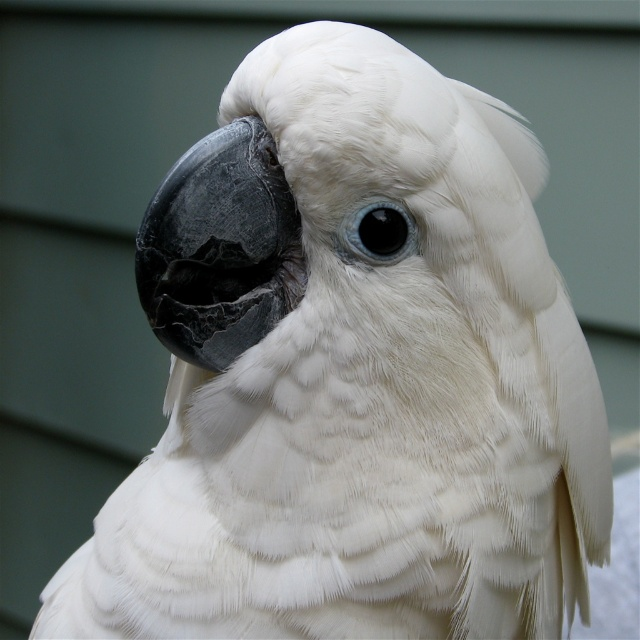Parrot: (27, 19, 616, 640)
